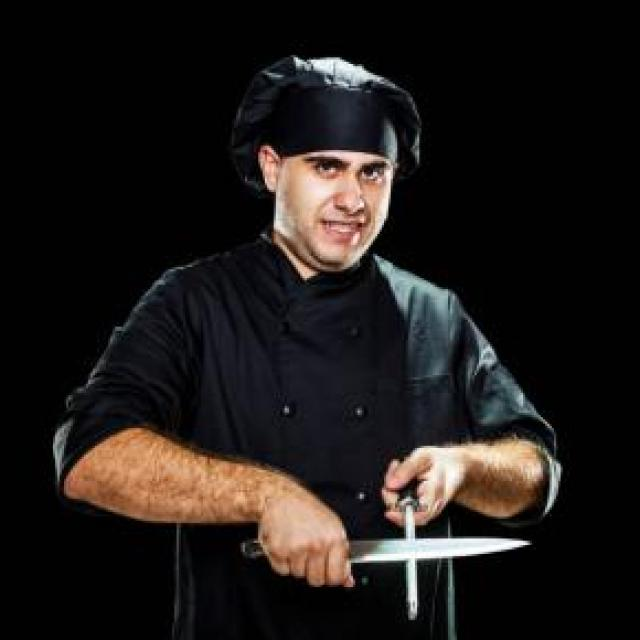knife: (243, 534, 538, 566), (395, 457, 423, 616)
